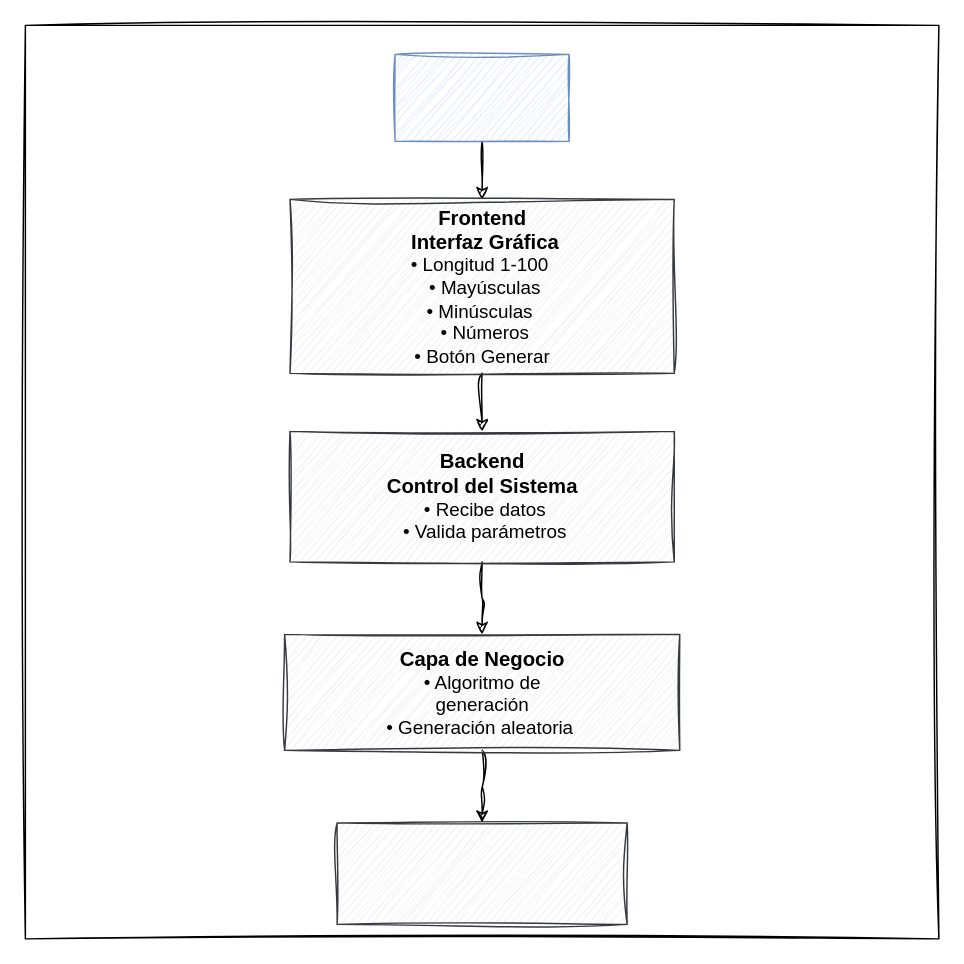
Some shapes in this 964 by 964 pixel diagram are drawn without their labels. Here are the shapes that lost their labels. From the top down, the centre of each, then its label:
At point 481,97: "USUARIO".
At point 481,872: "Base de Datos • Historial de contraseñas".
